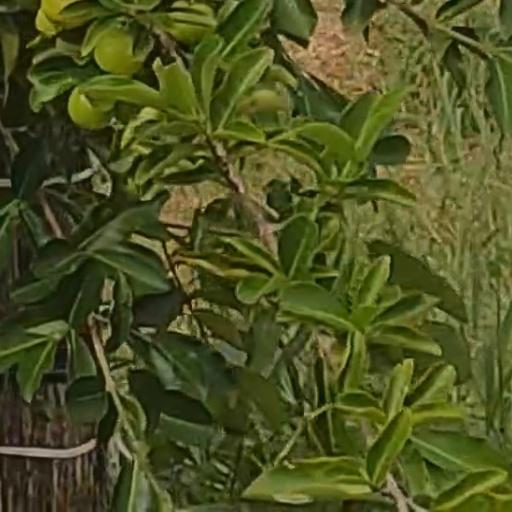acerola_verde: (94, 27, 140, 75), (74, 94, 108, 134)
